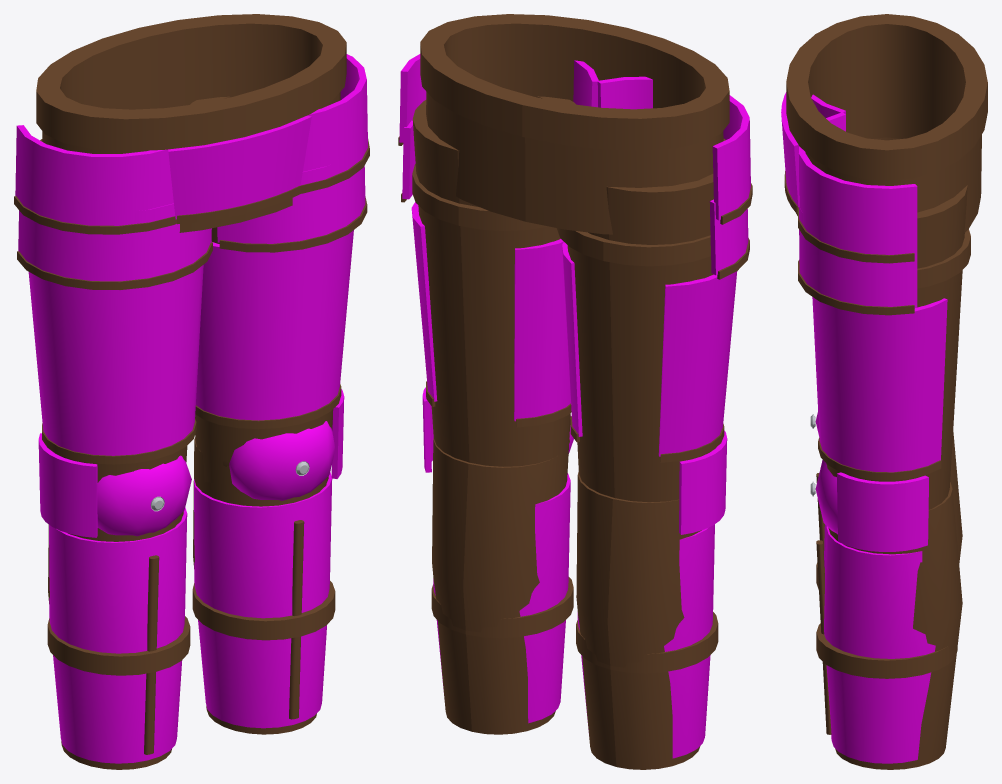
The model's file is porte_armure1_jambieres.glb.
3 views of the same model, side by side, from view 1: azimuth 30°, elevation 25°; view 2: azimuth 150°, elevation 25°; view 3: azimuth 270°, elevation 25° (orthographic). The views are drawn at different scales.
Parts seen in each view (by area): view 1: cuisse_d__jambieres_teinte.010, bassin__jambieres_sac_cuir.004, cuisse_g__jambieres_teinte.010, jambe_d__jambieres_teinte.010, jambe_g__jambieres_teinte.010, bassin__jambieres_teinte.010, jambe_g__jambieres_sac_cuir.002, cuisse_g__jambieres_sac_cuir.002, jambe_d__jambieres_sac_cuir.002, cuisse_d__jambieres_sac_cuir.002; view 2: bassin__jambieres_sac_cuir.004, cuisse_d__jambieres_sac_cuir.002, cuisse_g__jambieres_sac_cuir.002, jambe_g__jambieres_sac_cuir.002, jambe_d__jambieres_sac_cuir.002, cuisse_d__jambieres_teinte.010, cuisse_g__jambieres_teinte.010, jambe_d__jambieres_teinte.010, jambe_g__jambieres_teinte.010; view 3: cuisse_g__jambieres_teinte.010, bassin__jambieres_sac_cuir.004, jambe_g__jambieres_teinte.010, jambe_g__jambieres_sac_cuir.002, cuisse_g__jambieres_sac_cuir.002, bassin__jambieres_teinte.010, jambe_d__jambieres_sac_cuir.002.
Boxes of the visible parts, left/top/right/bottom form: cuisse_d__jambieres_teinte.010: left=15, top=125, right=211, bottom=455; bassin__jambieres_sac_cuir.004: left=36, top=14, right=346, bottom=232; cuisse_g__jambieres_teinte.010: left=196, top=54, right=367, bottom=420; jambe_d__jambieres_teinte.010: left=38, top=433, right=191, bottom=763; jambe_g__jambieres_teinte.010: left=194, top=389, right=344, bottom=728; bassin__jambieres_teinte.010: left=168, top=115, right=311, bottom=219; jambe_g__jambieres_sac_cuir.002: left=192, top=437, right=335, bottom=734; cuisse_g__jambieres_sac_cuir.002: left=190, top=96, right=369, bottom=502; jambe_d__jambieres_sac_cuir.002: left=47, top=514, right=190, bottom=769; cuisse_d__jambieres_sac_cuir.002: left=14, top=139, right=212, bottom=538; bassin__jambieres_sac_cuir.004: left=420, top=14, right=729, bottom=234; cuisse_d__jambieres_sac_cuir.002: left=556, top=139, right=752, bottom=502; cuisse_g__jambieres_sac_cuir.002: left=398, top=96, right=575, bottom=486; jambe_g__jambieres_sac_cuir.002: left=431, top=438, right=573, bottom=734; jambe_d__jambieres_sac_cuir.002: left=576, top=472, right=718, bottom=769; cuisse_d__jambieres_teinte.010: left=562, top=76, right=750, bottom=456; cuisse_g__jambieres_teinte.010: left=399, top=54, right=598, bottom=421; jambe_d__jambieres_teinte.010: left=577, top=430, right=727, bottom=758; jambe_g__jambieres_teinte.010: left=422, top=387, right=573, bottom=723; cuisse_g__jambieres_teinte.010: left=798, top=112, right=947, bottom=472; bassin__jambieres_sac_cuir.004: left=784, top=14, right=987, bottom=232; jambe_g__jambieres_teinte.010: left=815, top=460, right=935, bottom=763; jambe_g__jambieres_sac_cuir.002: left=816, top=482, right=962, bottom=769; cuisse_g__jambieres_sac_cuir.002: left=798, top=185, right=970, bottom=553; bassin__jambieres_teinte.010: left=781, top=92, right=799, bottom=207; jambe_d__jambieres_sac_cuir.002: left=816, top=432, right=962, bottom=589.
Size of the model in its own units: 0.4379 by 0.83 by 0.246.
